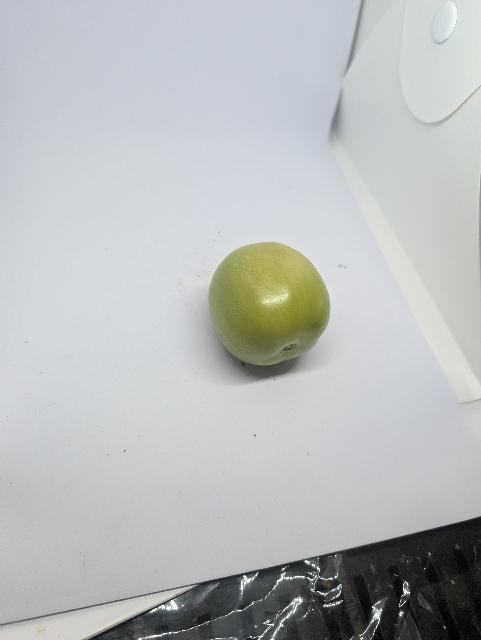green: (206, 240, 335, 368)
